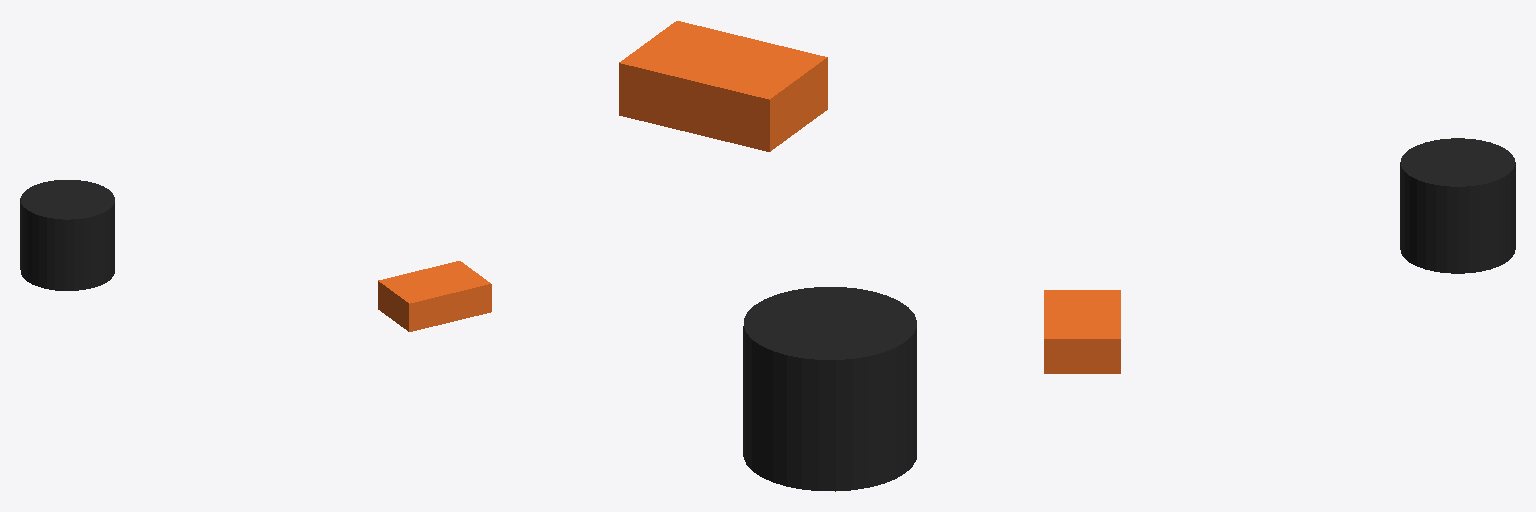
robot.urdf — cartographer_backpack_2d:
<robot name="cartographer_backpack_2d">
  <material name="orange">
    <color rgba="1.0 0.5 0.2 1" />
  </material>
  <material name="gray">
    <color rgba="0.2 0.2 0.2 1" />
  </material>
  <link name="imu_link">
    <visual>
      <origin xyz="0 0 0" />
      <geometry>
        <box size="0.06 0.04 0.02" />
      </geometry>
      <material name="orange" />
    </visual>
  </link>
  <link name="laser_link">
    <visual>
      <origin xyz="0 0 0" />
      <geometry>
        <cylinder length="0.05" radius="0.03" />
      </geometry>
      <material name="gray" />
    </visual>
  </link>
  <link name="base_link" />
  <joint name="imu_link_joint" type="fixed">
    <parent link="base_link" />
    <child link="imu_link" />
    <origin xyz="0.1555 -0.1955 0" />
  </joint>
  <joint name="laser_link_joint" type="fixed">
    <parent link="base_link" />
    <child link="laser_link" />
    <origin xyz="0 0 0" />
  </joint>
</robot>

--- Render facts (derived) ---
3 views of the same robot in one strip: view 1: azimuth 30°, elevation 25°; view 2: azimuth 150°, elevation 25°; view 3: azimuth 270°, elevation 25° (orthographic).
Model cartographer_backpack_2d with 3 links and 2 joints (2 fixed), rooted at base_link, posed every joint at zero.
Links seen in each view (by area): view 1: laser_link, imu_link; view 2: laser_link, imu_link; view 3: laser_link, imu_link.
Link boxes in pixels (box(x1,y1,x2,y2)): laser_link: box(20, 180, 114, 290); imu_link: box(378, 261, 491, 331); laser_link: box(743, 287, 916, 491); imu_link: box(619, 21, 827, 151); laser_link: box(1400, 138, 1515, 273); imu_link: box(1044, 290, 1120, 373).
Size in the robot's own frame: 0.2155 by 0.2455 by 0.05 metres.
Geometry: primitives only (box / cylinder / sphere), no mesh files.